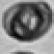correct: (3, 0, 54, 44)
